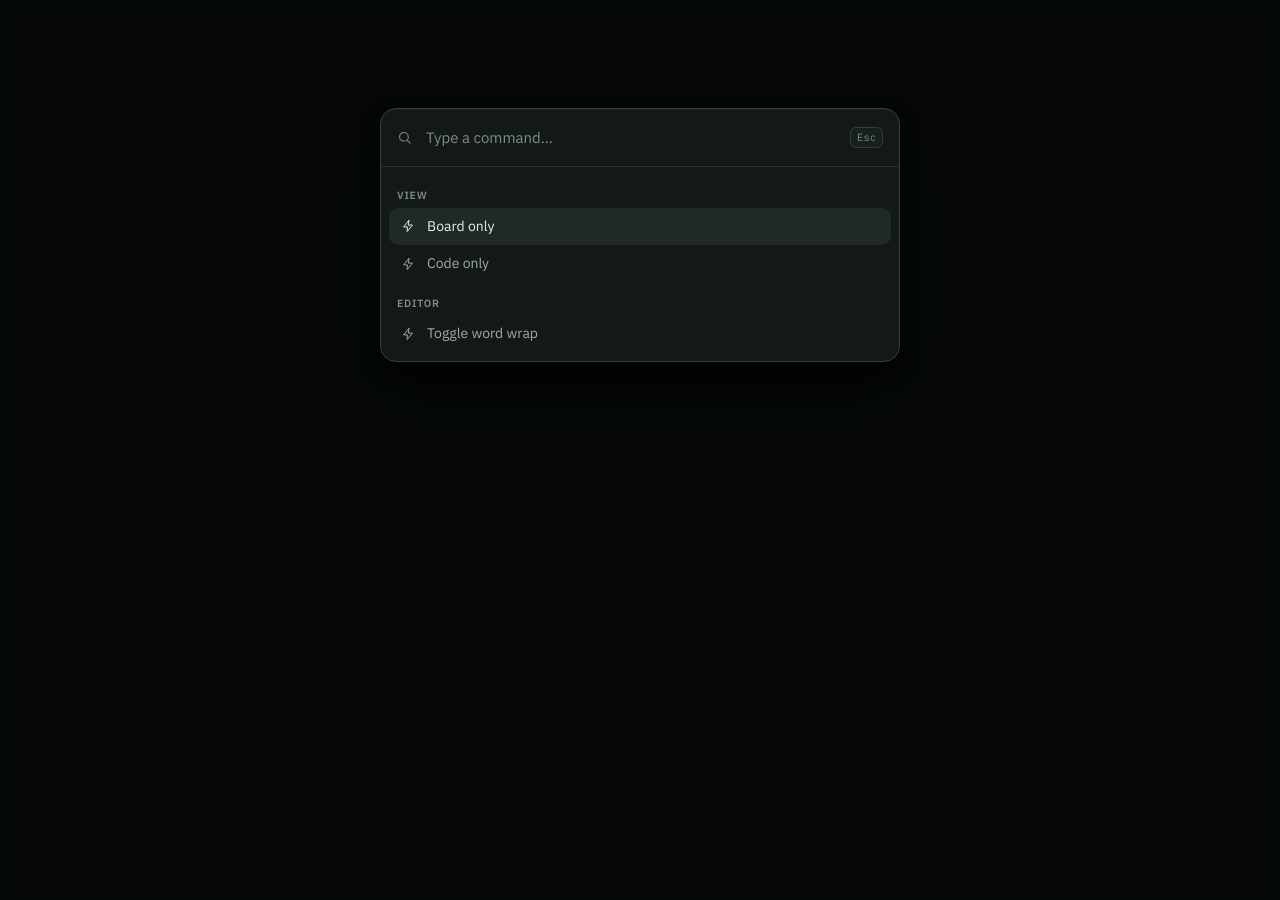
Test case: CommandPalette › resets the highlight when the query narrows the list
This screenshot has width=1280, height=900.
Press Arrowdown Arrowdown
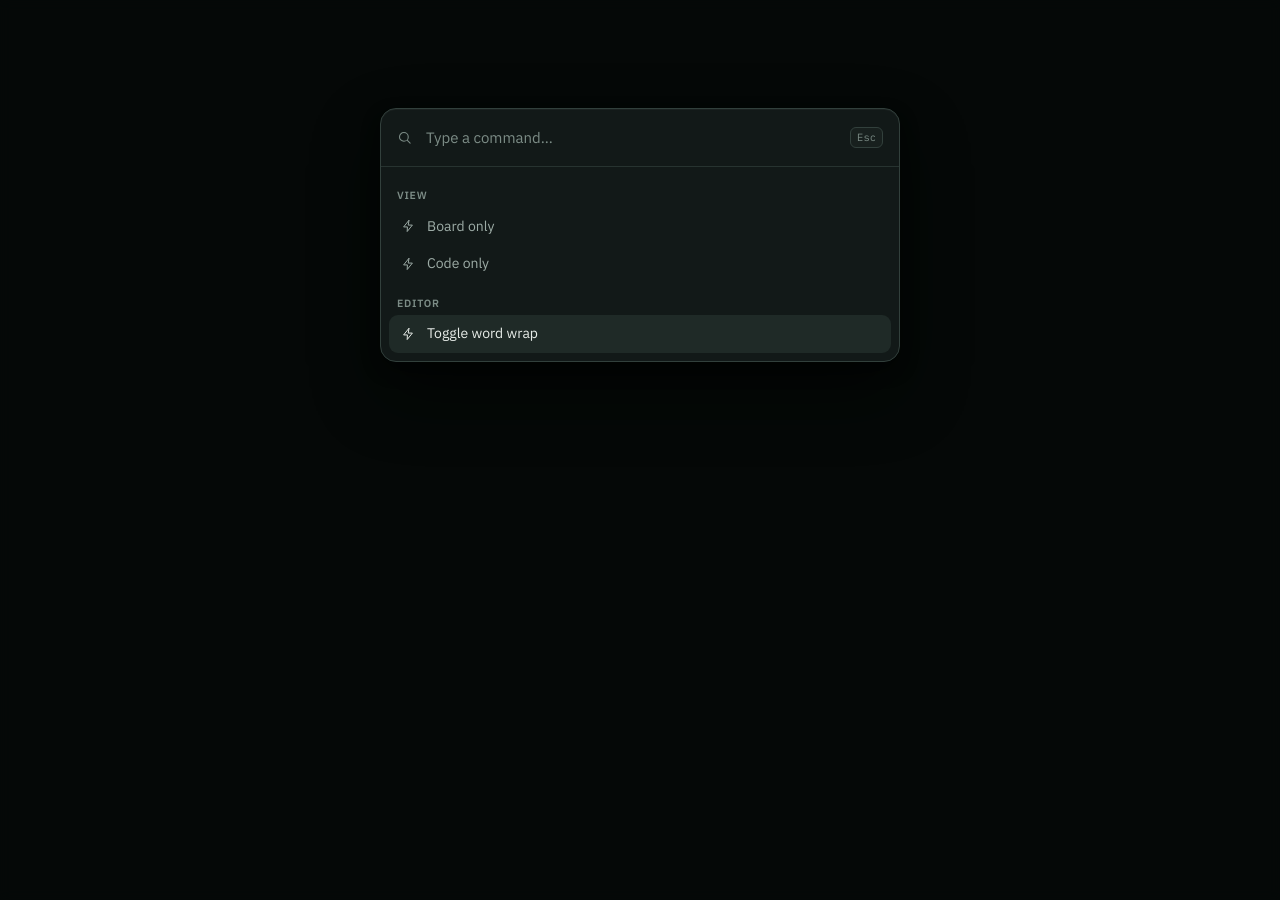
In the field: (631, 138) [424,125,838,150], type "only"
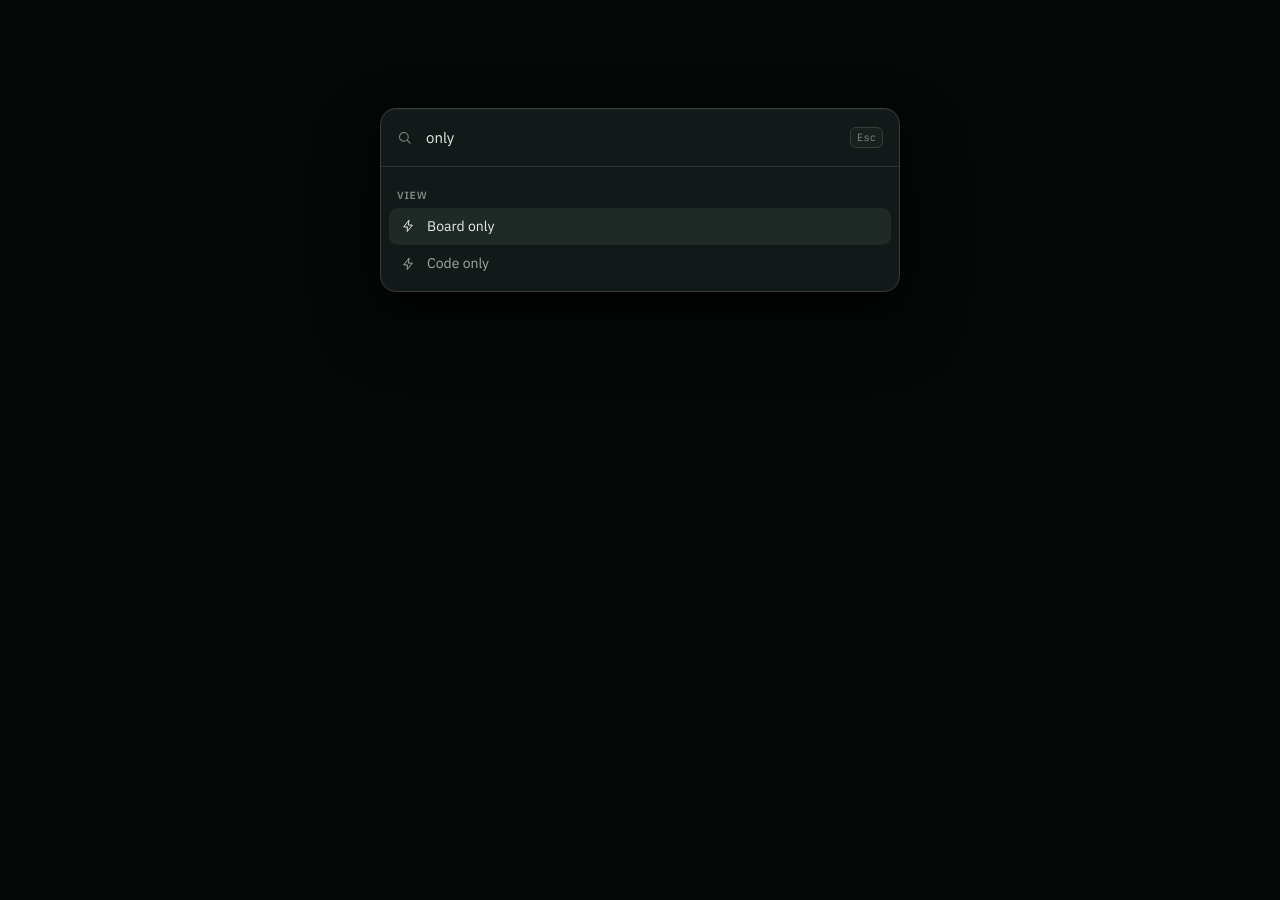
Check: the number of options is 2, box [389,208,891,245]; [389,245,891,283]
